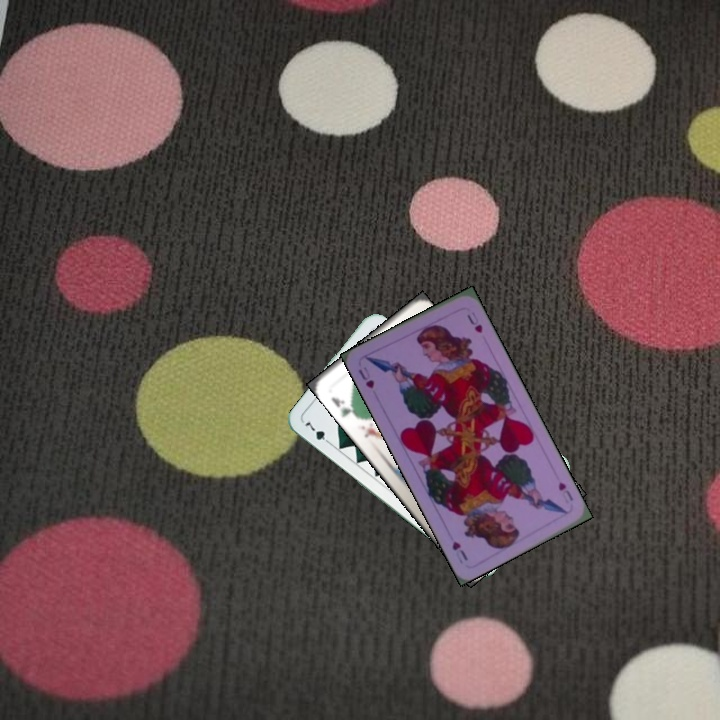G7: (300, 418, 334, 448)
GK: (327, 393, 358, 420)
HU: (354, 362, 377, 391), (554, 478, 576, 506)
